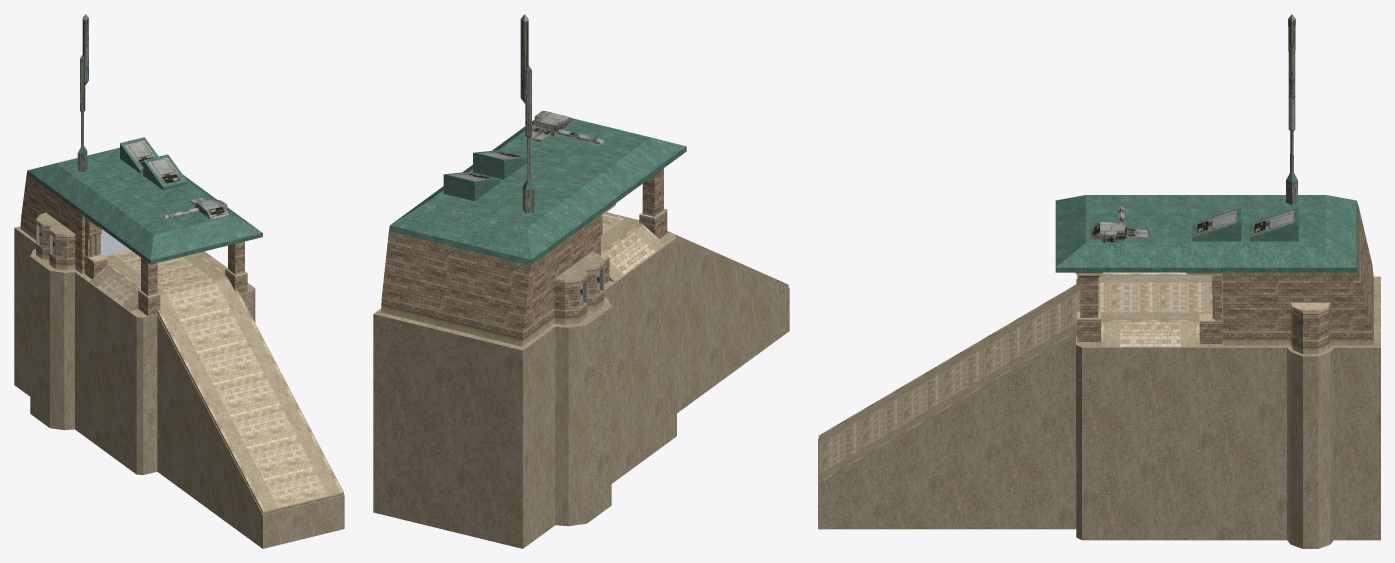
The model's file is ply_nboo_garage_s01_l1.fbx.
3 renders of one model, left to right at view 1: azimuth 30°, elevation 25°; view 2: azimuth 150°, elevation 25°; view 3: azimuth 270°, elevation 25°, orthographic. The views are drawn at different scales.
Parts seen in each view (by area): view 1: mesh_node; view 2: mesh_node; view 3: mesh_node.
Boxes of the visible parts, left/top/right/bottom form: mesh_node: left=14, top=14, right=344, bottom=548; mesh_node: left=373, top=14, right=789, bottom=548; mesh_node: left=818, top=14, right=1380, bottom=548.
Size of the model in its own units: 12.12 by 29.87 by 32.
